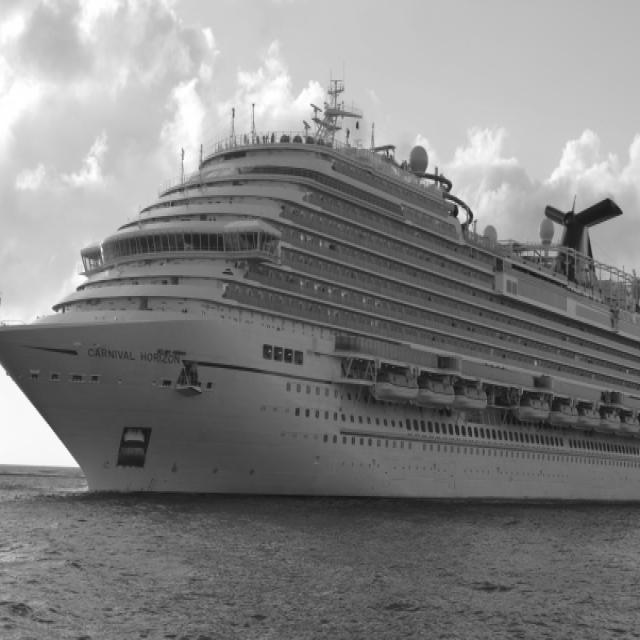cruises: (1, 36, 640, 545)
